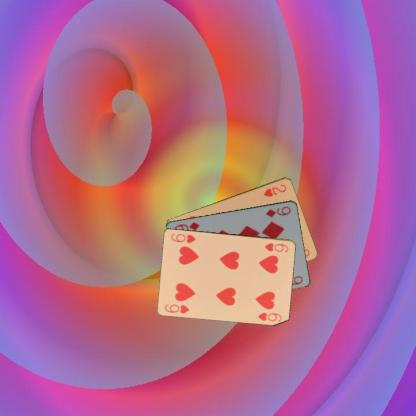2h: (261, 182, 288, 198)
6h: (162, 301, 191, 315), (262, 240, 290, 253)
9d: (263, 204, 292, 218)
